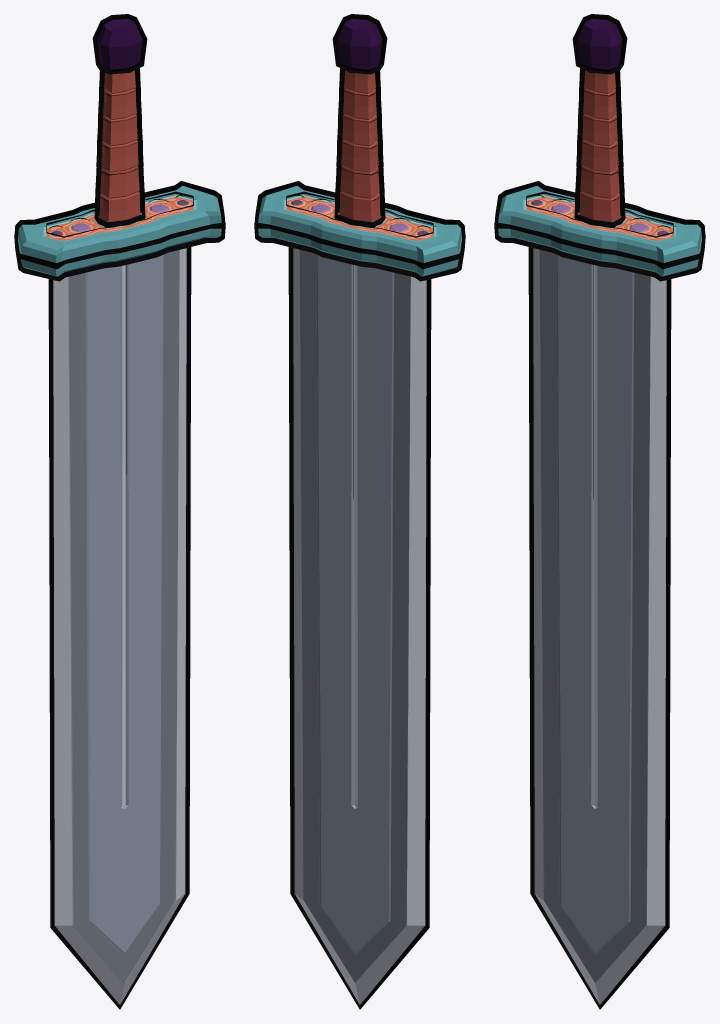
The model's file is sword.fbx.
3 renders of one model, left to right at view 1: azimuth 30°, elevation 25°; view 2: azimuth 150°, elevation 25°; view 3: azimuth 330°, elevation 25°, orthographic.
Parts seen in each view (by area): view 1: Sword, SwordOutline; view 2: Sword, SwordOutline; view 3: Sword, SwordOutline.
Part boxes in pixels (bbox=[...]): Sword: bbox=[18, 19, 221, 1004]; SwordOutline: bbox=[14, 14, 225, 1009]; Sword: bbox=[258, 19, 461, 1004]; SwordOutline: bbox=[254, 14, 465, 1009]; Sword: bbox=[498, 19, 701, 1004]; SwordOutline: bbox=[494, 14, 705, 1009].
Size of the model in its own units: 224 by 1035 by 80.51.
